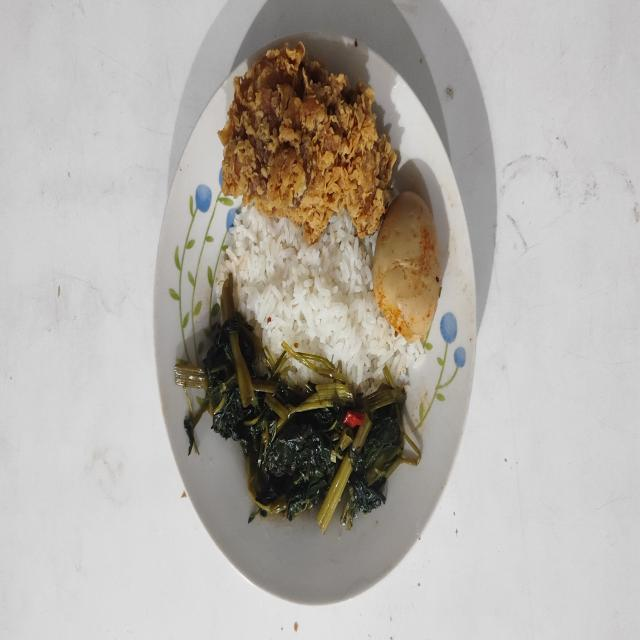nasi_putih: (220, 206, 424, 395)
tumis_kangkung: (175, 272, 419, 534)
